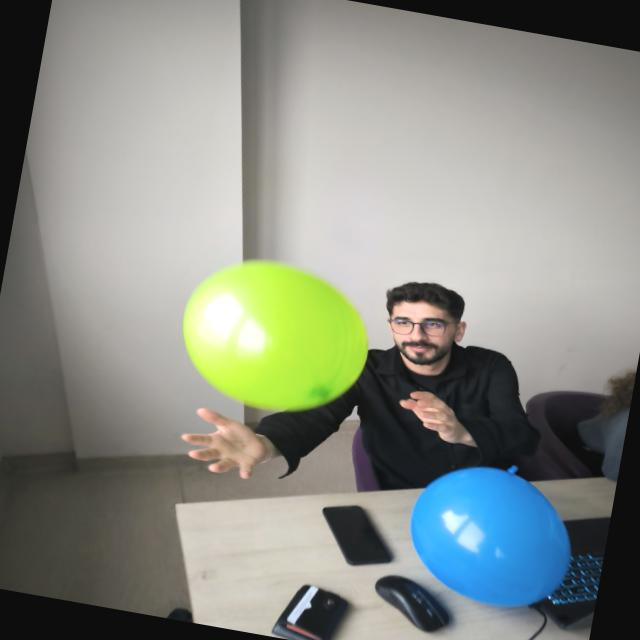balloon: (183, 259, 367, 410), (410, 467, 570, 606)
